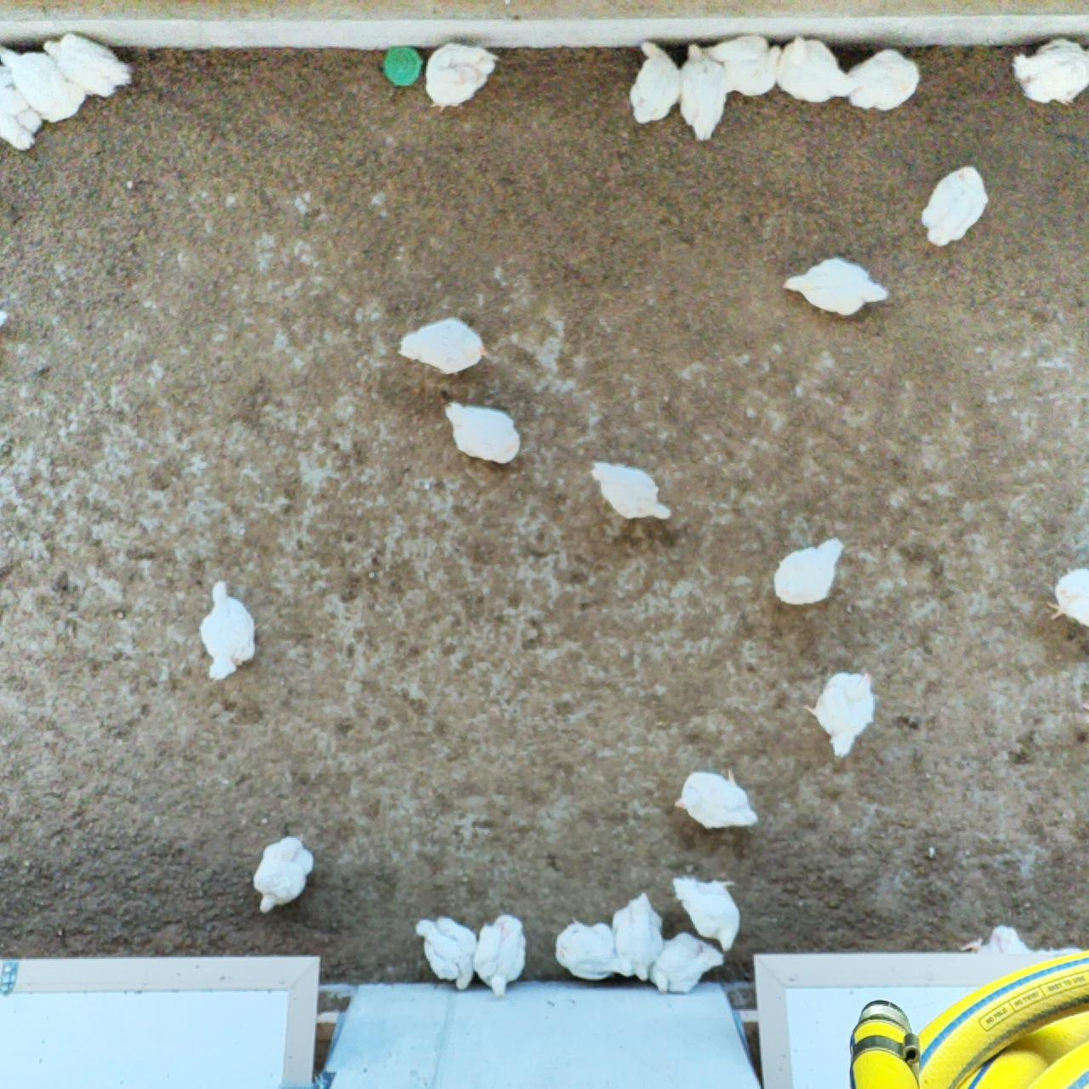chicken: (799, 658, 877, 758), (0, 40, 88, 128), (781, 252, 890, 320), (439, 393, 529, 472), (39, 31, 139, 102), (669, 870, 746, 954), (1003, 31, 1089, 106), (674, 762, 762, 835), (774, 31, 859, 106), (917, 164, 992, 249), (588, 456, 674, 530), (394, 312, 492, 376), (675, 42, 734, 147), (423, 38, 503, 115), (199, 579, 258, 682), (839, 44, 924, 115), (249, 831, 319, 917), (700, 32, 783, 103), (766, 535, 843, 606), (472, 911, 531, 1003), (623, 38, 681, 130), (611, 887, 666, 984), (649, 931, 727, 999), (414, 912, 478, 990), (552, 912, 623, 982), (0, 67, 50, 154), (1045, 563, 1089, 634), (961, 925, 1038, 958)
